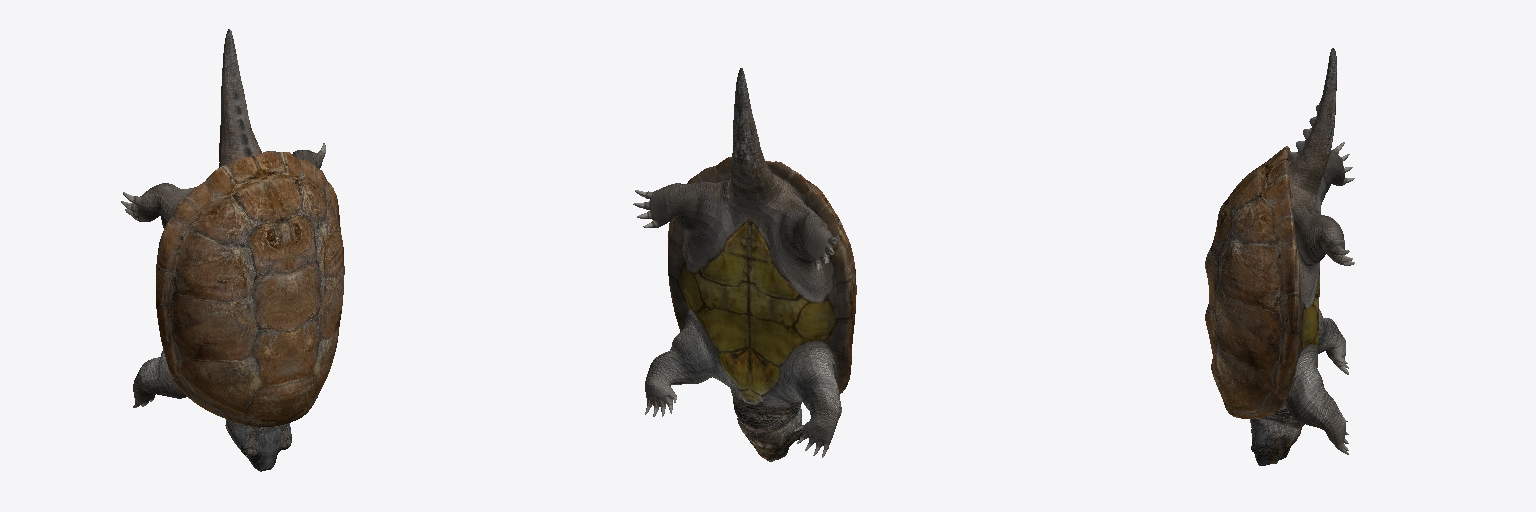
3 renders of one model, left to right at view 1: azimuth 30°, elevation 25°; view 2: azimuth 150°, elevation 25°; view 3: azimuth 270°, elevation 25°, orthographic.
Visible parts, largest first — view 1: 13100_floridaturtle; view 2: 13100_floridaturtle; view 3: 13100_floridaturtle.
Part boxes in pixels (x1,y1,x2,y2): 13100_floridaturtle: (121,29,344,471); 13100_floridaturtle: (633,68,856,461); 13100_floridaturtle: (1205,48,1354,465).
Size of the model in its own units: 9.62 by 18.88 by 6.17.
Materials: 1 (1 with a texture image).